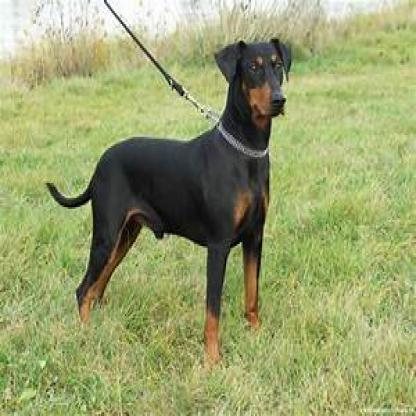dog: (47, 35, 294, 368)
